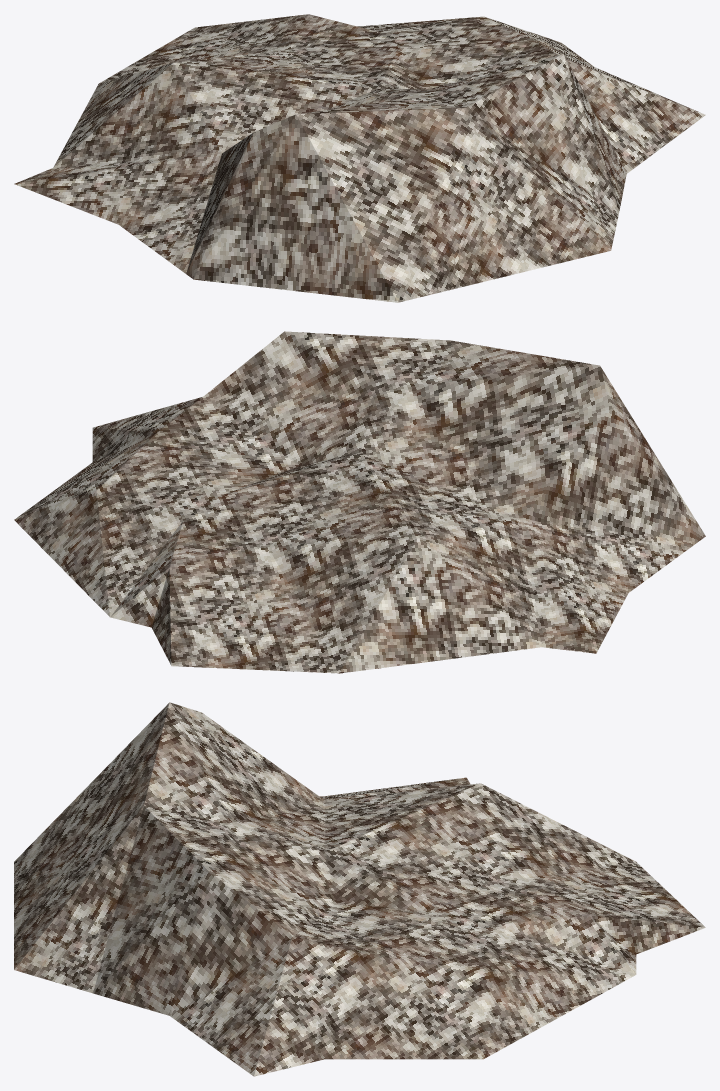
File: gravel.dae
3 renders of one model, top to bottom at view 1: azimuth 30°, elevation 25°; view 2: azimuth 150°, elevation 25°; view 3: azimuth 270°, elevation 25°, orthographic. The views are drawn at different scales.
Visible parts, largest first — view 1: Plane; view 2: Plane; view 3: Plane.
Part boxes in pixels (x1=…): Plane: x1=14, y1=14, x2=705, y2=302; Plane: x1=14, y1=331, x2=705, y2=673; Plane: x1=14, y1=702, x2=705, y2=1076.
Bounding box in the file's own units: 6.82 × 6.67 × 1.55.
1 material, 1 textured.
